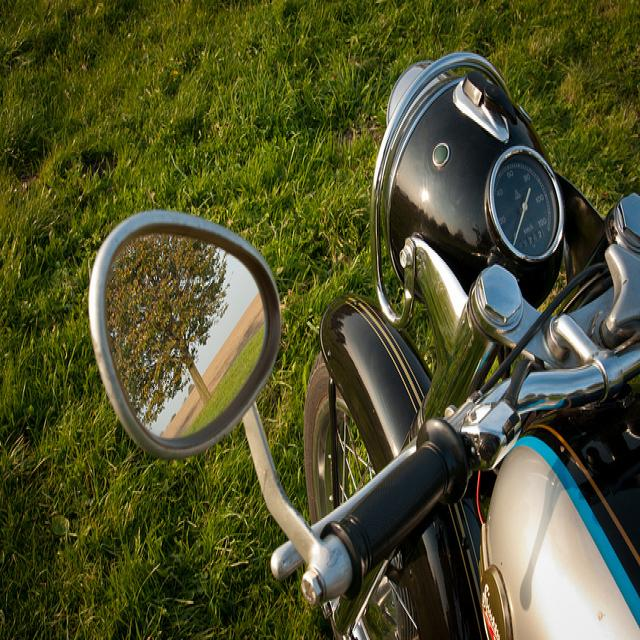motor: (86, 62, 640, 632)
